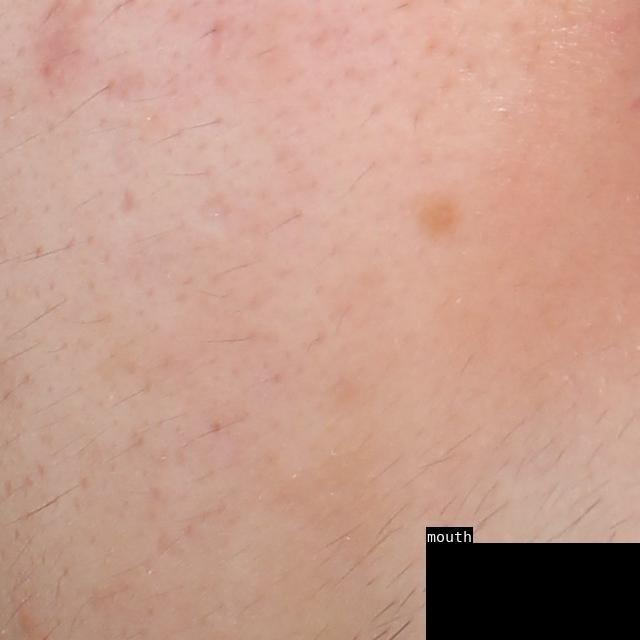atrophic_scar: (103, 61, 151, 101), (195, 192, 231, 222), (115, 184, 138, 215)
